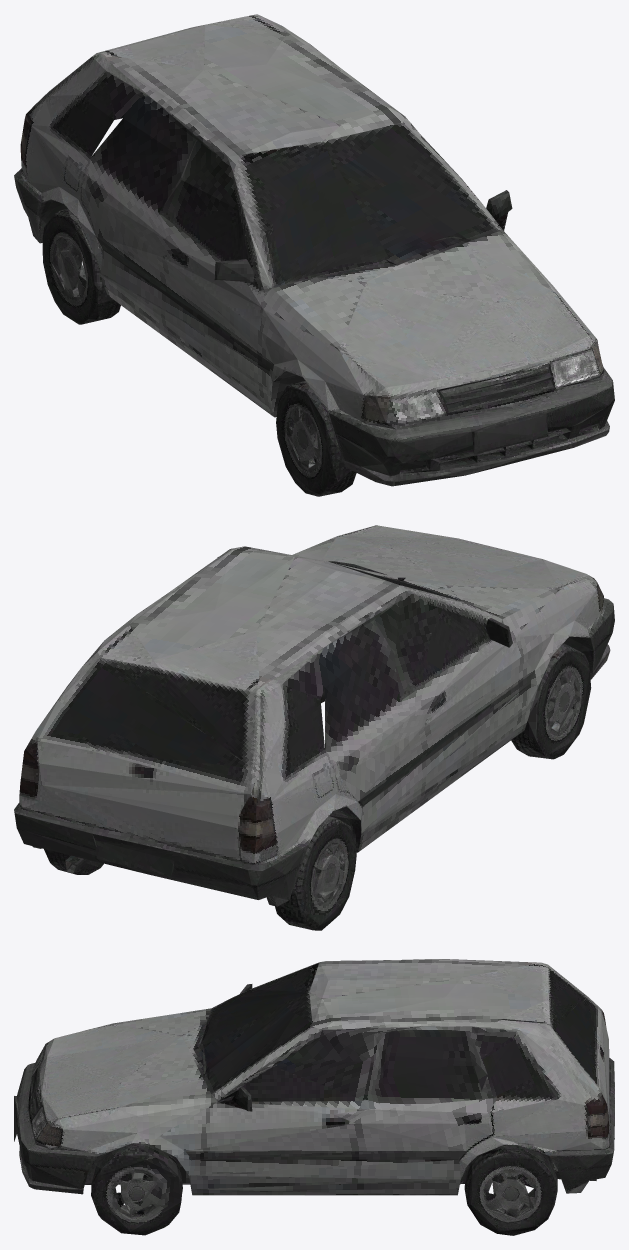
The model's file is hatch_steel.glb.
The picture shows the model from 3 angles, top to bottom: view 1: azimuth 30°, elevation 25°; view 2: azimuth 150°, elevation 25°; view 3: azimuth 270°, elevation 25°; orthographic projection. The views are drawn at different scales.
Visible parts, largest first — view 1: car_hatch; view 2: car_hatch; view 3: car_hatch.
Boxes of the visible parts, <box> form: car_hatch: <box>14,14,614,496</box>; car_hatch: <box>14,525,614,930</box>; car_hatch: <box>14,959,614,1235</box>.
Size of the model in its own units: 1.83 by 1.48 by 4.05.
1 material, 1 textured.
